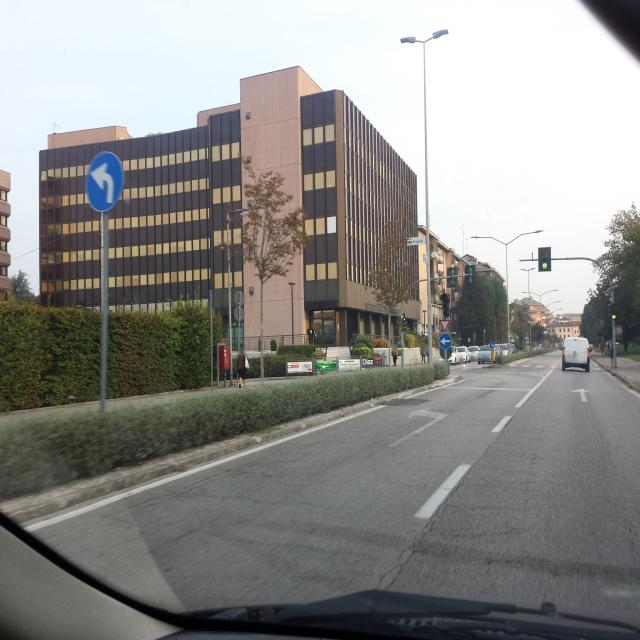car: (561, 336, 591, 373), (478, 344, 497, 364), (450, 346, 470, 364), (467, 346, 481, 360)
